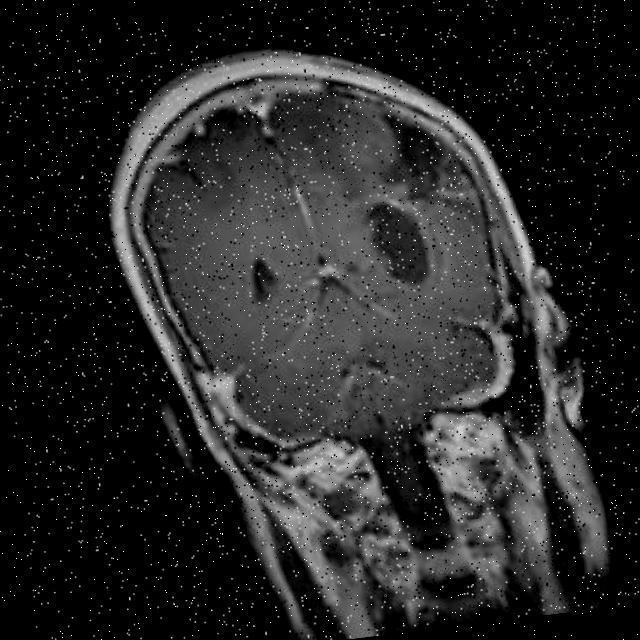EMCI: (334, 158, 474, 330)
